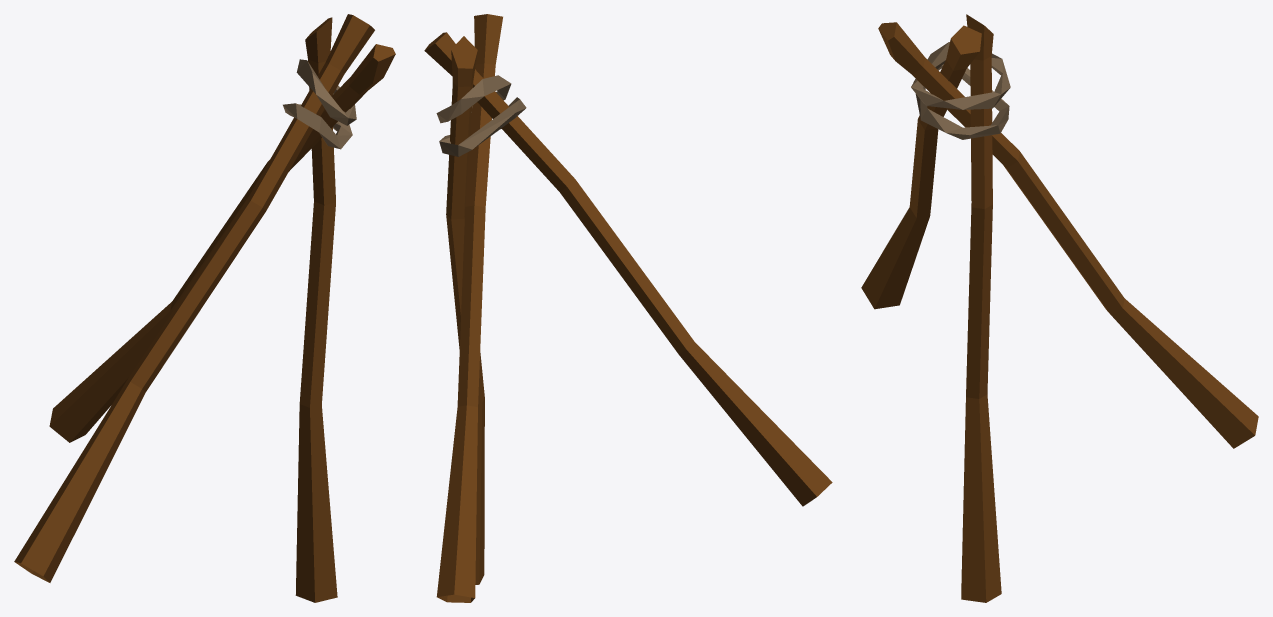
The model's file is FireTriangle.fbx.
3 views of the same model, side by side, from view 1: azimuth 30°, elevation 25°; view 2: azimuth 150°, elevation 25°; view 3: azimuth 270°, elevation 25° (orthographic). The views are drawn at different scales.
Visible parts, largest first — view 1: FireTriangle; view 2: FireTriangle; view 3: FireTriangle.
Part boxes in pixels (left/top/right/bottom): FireTriangle: left=14, top=14, right=395, bottom=602; FireTriangle: left=424, top=14, right=832, bottom=602; FireTriangle: left=861, top=14, right=1258, bottom=602.
Bounding box in the file's own units: 112 × 156 × 96.49.
